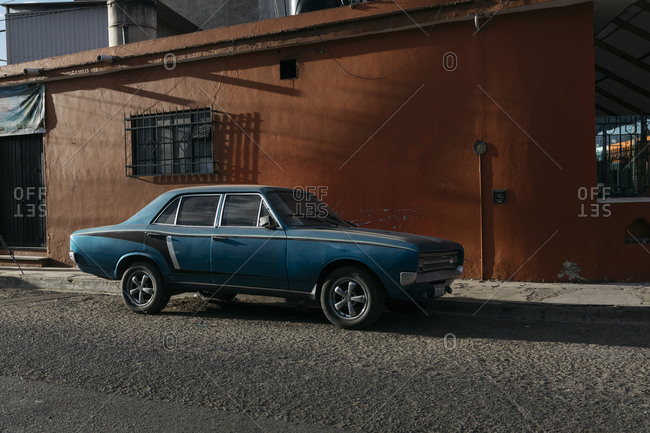car: (70, 181, 465, 345)
